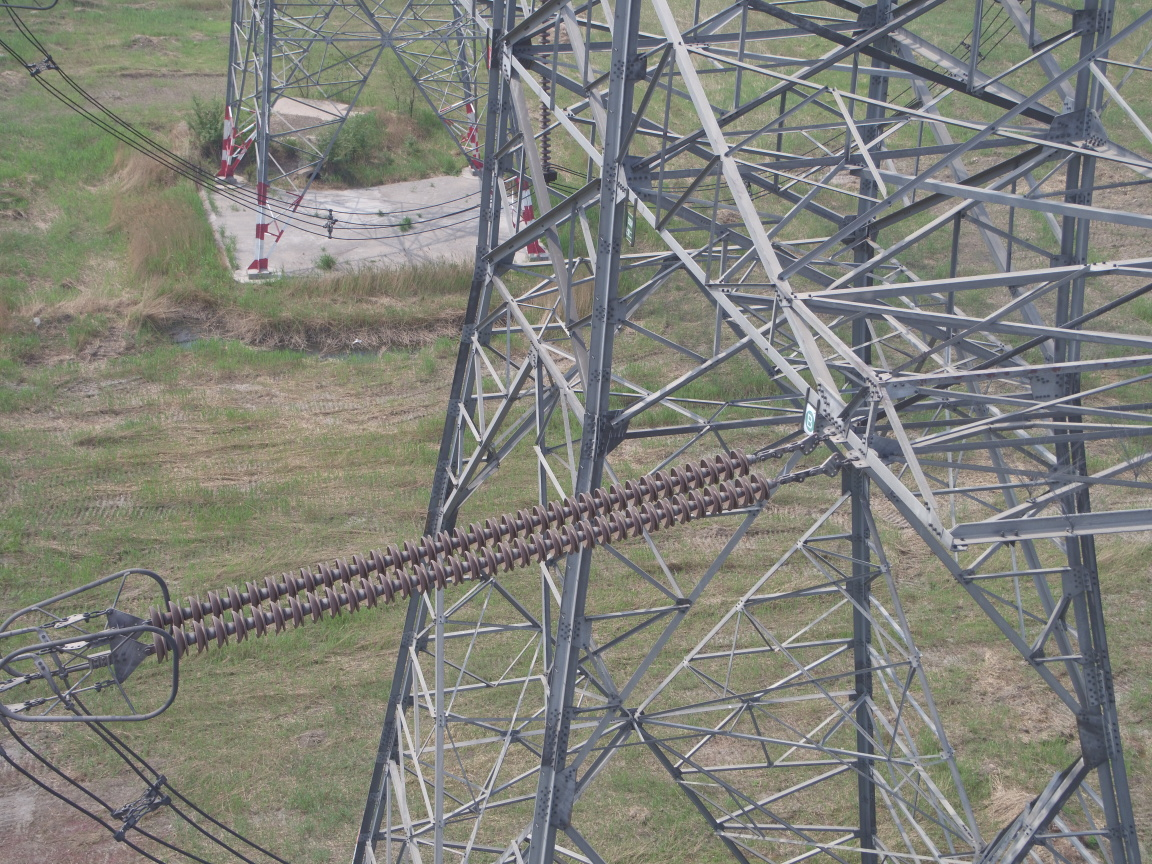insulator: (131, 442, 797, 667)
